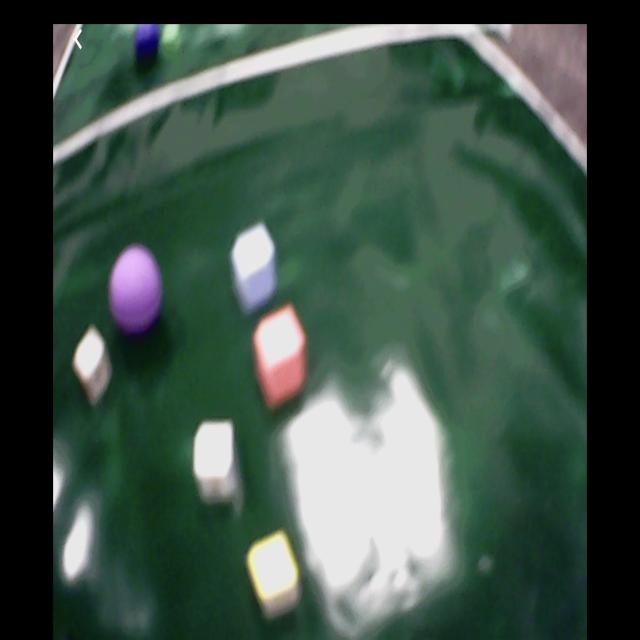ball: (110, 248, 161, 327), (133, 27, 161, 65)
